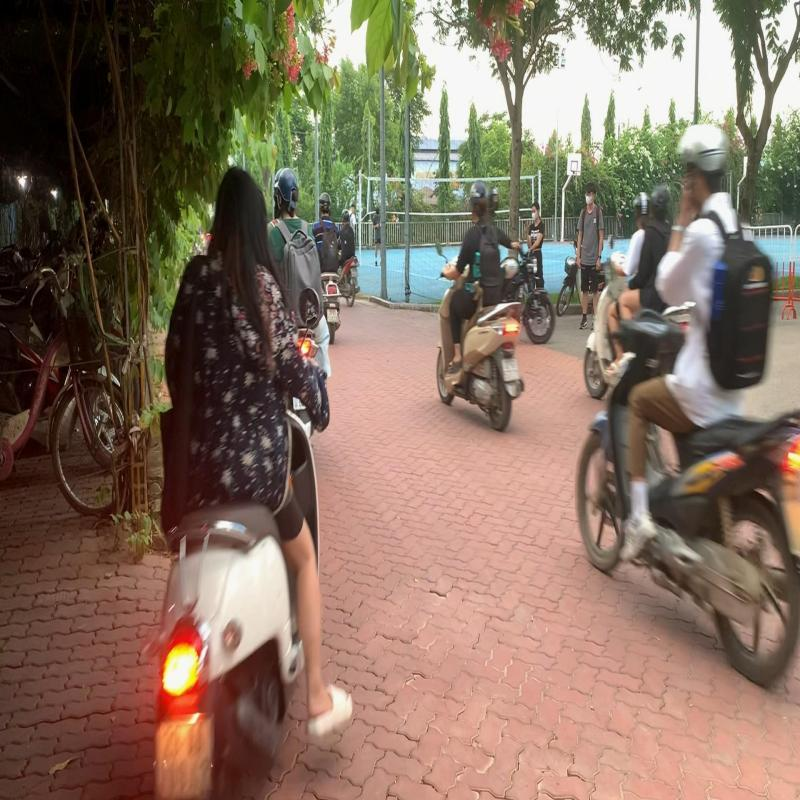nohelmet: (208, 158, 273, 266)
